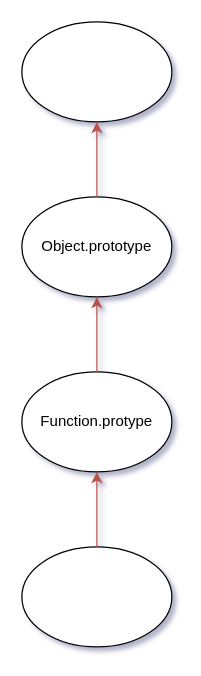
This 201x676 diagram has some shape labels left out. Here are the shapes that lost their labels. From the top down, the centre of each, then its label:
the point at 96,71: null
the point at 96,596: Student
